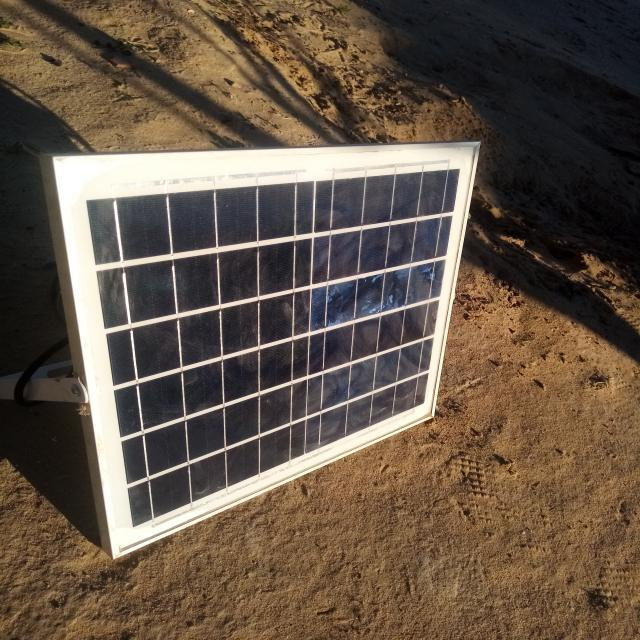faulty: (55, 146, 480, 555)
